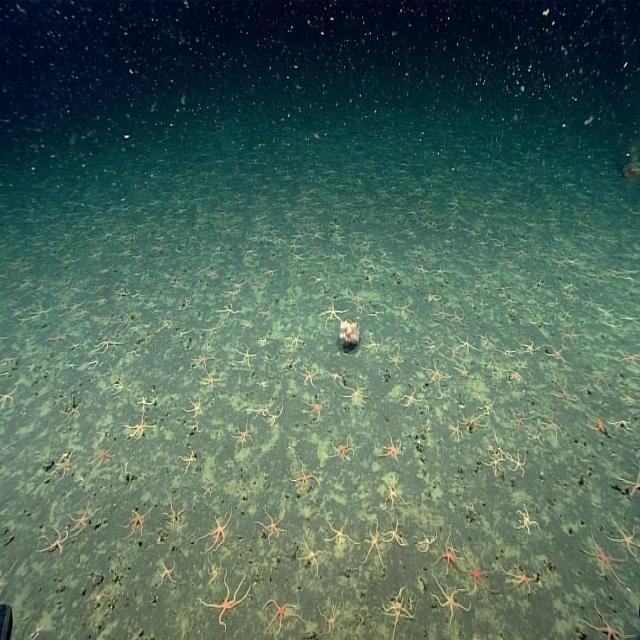brittle-stars: (201, 576, 251, 626), (583, 531, 622, 585), (434, 576, 471, 621), (263, 595, 303, 636), (464, 548, 496, 599), (199, 511, 234, 552), (503, 560, 541, 596), (380, 587, 414, 627), (588, 606, 627, 640), (358, 520, 385, 566), (256, 508, 288, 543), (433, 536, 461, 576), (70, 501, 101, 537), (612, 518, 640, 557), (39, 523, 70, 558), (324, 516, 354, 550), (124, 504, 152, 540), (300, 536, 326, 574), (380, 475, 406, 511), (290, 462, 320, 492), (125, 412, 156, 441), (383, 516, 407, 549), (90, 441, 118, 469), (424, 357, 449, 388), (380, 429, 403, 462), (342, 382, 369, 410), (318, 602, 340, 636), (415, 524, 439, 555), (516, 502, 539, 534), (330, 434, 356, 462), (303, 395, 329, 423), (620, 466, 640, 501), (542, 412, 565, 442), (322, 301, 348, 327), (550, 377, 575, 404), (162, 499, 185, 528), (459, 409, 485, 434), (588, 366, 611, 394), (60, 396, 83, 424), (508, 447, 528, 479), (482, 449, 504, 478), (233, 422, 254, 452), (399, 383, 423, 409), (56, 449, 76, 479), (508, 409, 532, 433), (237, 343, 257, 371), (455, 332, 476, 358), (158, 557, 178, 584), (608, 416, 638, 434), (384, 343, 402, 372), (583, 414, 609, 434), (182, 396, 204, 419), (545, 342, 568, 364), (193, 347, 214, 371), (390, 349, 408, 377), (300, 363, 320, 388), (0, 561, 15, 594), (95, 337, 124, 354), (283, 328, 305, 350), (477, 394, 498, 417), (216, 302, 240, 322), (178, 448, 198, 472), (0, 384, 18, 410), (201, 320, 225, 339), (200, 372, 221, 393), (190, 354, 210, 376), (518, 337, 538, 358), (494, 432, 509, 460), (28, 302, 50, 321), (45, 331, 69, 348), (393, 298, 413, 318), (110, 376, 129, 397), (434, 302, 453, 323), (621, 348, 640, 369), (136, 392, 155, 412), (363, 336, 382, 355), (207, 560, 222, 583), (264, 406, 282, 425), (25, 623, 45, 640), (450, 417, 463, 443), (424, 286, 442, 304), (451, 306, 467, 326), (95, 426, 111, 446), (92, 314, 112, 330), (247, 402, 269, 416), (282, 356, 299, 374), (184, 421, 203, 437), (198, 476, 213, 496), (527, 430, 545, 446), (202, 481, 218, 498), (118, 310, 133, 328), (598, 306, 616, 321), (242, 245, 257, 262), (565, 328, 580, 344), (411, 263, 429, 276), (349, 288, 363, 304), (180, 294, 192, 312), (0, 355, 15, 369), (453, 366, 469, 379), (309, 274, 326, 286), (447, 345, 462, 358), (113, 288, 129, 299), (127, 346, 139, 360), (291, 252, 306, 263), (72, 310, 88, 320), (330, 371, 343, 383), (359, 255, 372, 267), (93, 283, 107, 294), (336, 250, 348, 262), (196, 266, 209, 277), (369, 310, 383, 320), (221, 290, 236, 299), (252, 278, 263, 290), (423, 340, 435, 351), (356, 302, 366, 315), (259, 308, 272, 318), (132, 292, 146, 301), (434, 268, 446, 278), (208, 269, 220, 279), (324, 253, 336, 263), (89, 357, 99, 369), (264, 268, 278, 276), (69, 340, 80, 350), (409, 248, 421, 257), (150, 308, 163, 316), (256, 380, 269, 388), (381, 250, 391, 260), (65, 362, 77, 370), (144, 300, 154, 309), (259, 337, 268, 347), (145, 334, 152, 342)
